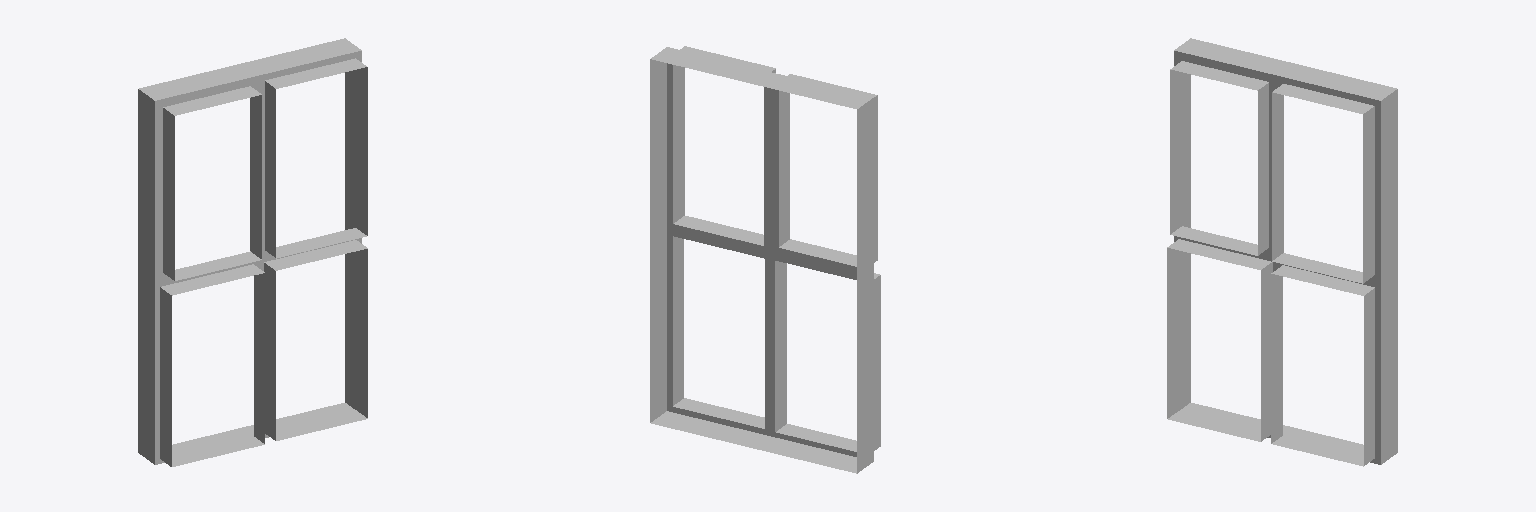
File: Frame.obj
3 renders of one model, left to right at view 1: azimuth 30°, elevation 25°; view 2: azimuth 150°, elevation 25°; view 3: azimuth 330°, elevation 25°, orthographic.
Parts seen in each view (by area): view 1: WindowFrame; view 2: WindowFrame; view 3: WindowFrame.
Part boxes in pixels (x1,y1,x2,y2): WindowFrame: (138, 38, 367, 466); WindowFrame: (650, 46, 880, 473); WindowFrame: (1167, 38, 1397, 466).
Bounding box in the file's own units: 7.43 × 12.5 × 1.78.